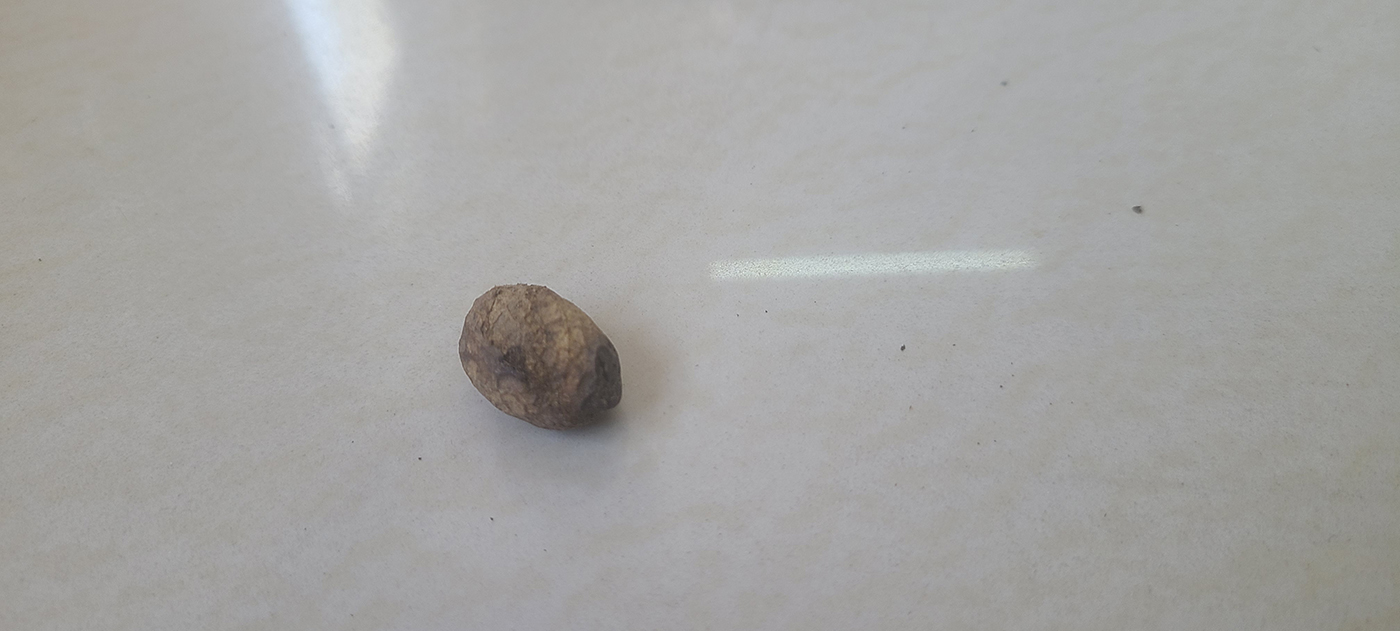l: (458, 281, 626, 432)
